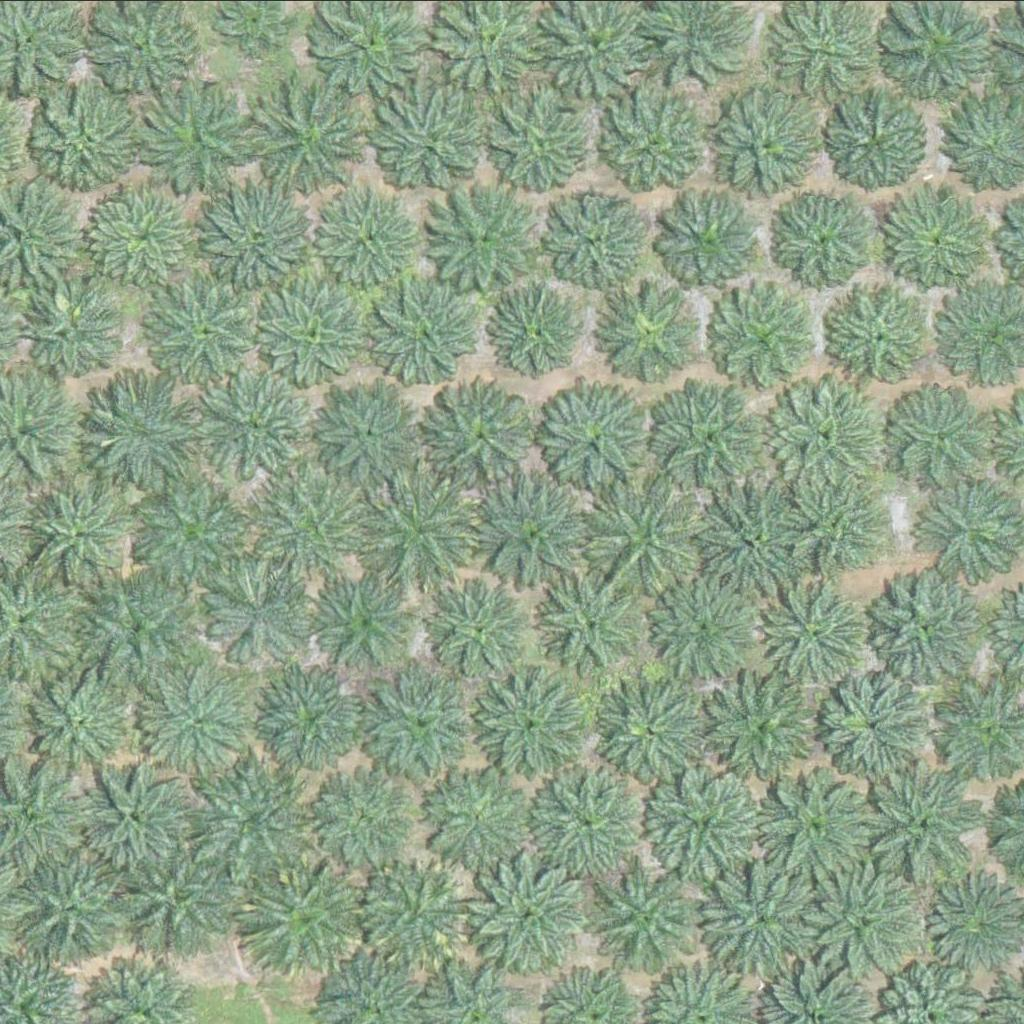Kelapa_Sawit: (769, 377, 895, 502), (249, 856, 374, 981), (259, 275, 373, 388), (314, 381, 428, 494), (703, 88, 817, 201), (81, 758, 194, 871), (261, 662, 374, 775), (90, 377, 203, 490), (149, 272, 262, 385), (429, 183, 542, 296), (583, 477, 696, 590), (696, 485, 809, 598), (761, 576, 874, 689), (472, 672, 585, 785), (468, 854, 581, 967), (595, 857, 708, 970), (708, 863, 821, 976), (816, 864, 929, 977), (759, 770, 872, 883), (874, 766, 987, 879), (90, 573, 204, 685), (141, 478, 255, 590), (200, 364, 314, 476), (422, 382, 536, 494), (535, 387, 649, 499), (361, 473, 475, 585), (880, 382, 994, 494), (868, 570, 982, 682), (19, 851, 132, 963), (117, 844, 230, 956), (204, 762, 317, 874), (261, 474, 374, 586), (205, 186, 318, 298), (88, 180, 201, 292), (144, 81, 257, 193), (258, 86, 371, 198), (369, 85, 482, 197), (479, 87, 592, 199), (829, 277, 942, 389), (709, 280, 822, 392), (647, 382, 760, 494), (480, 480, 593, 592), (593, 677, 706, 789), (711, 670, 824, 782), (420, 764, 533, 876), (530, 763, 643, 875), (646, 765, 759, 877), (824, 667, 937, 779), (146, 667, 247, 767), (317, 573, 418, 673), (15, 280, 116, 380), (33, 87, 134, 187), (602, 91, 703, 191), (376, 280, 477, 380), (428, 580, 529, 680), (535, 576, 636, 676), (652, 578, 753, 678), (370, 672, 471, 772), (313, 769, 414, 869), (363, 863, 464, 963), (884, 192, 985, 292), (29, 674, 129, 774), (214, 567, 314, 667), (25, 481, 125, 581), (320, 185, 420, 285), (824, 80, 924, 180), (548, 185, 648, 285), (657, 191, 757, 291), (776, 190, 876, 290), (490, 276, 590, 376), (600, 275, 700, 375), (800, 494, 875, 569)
